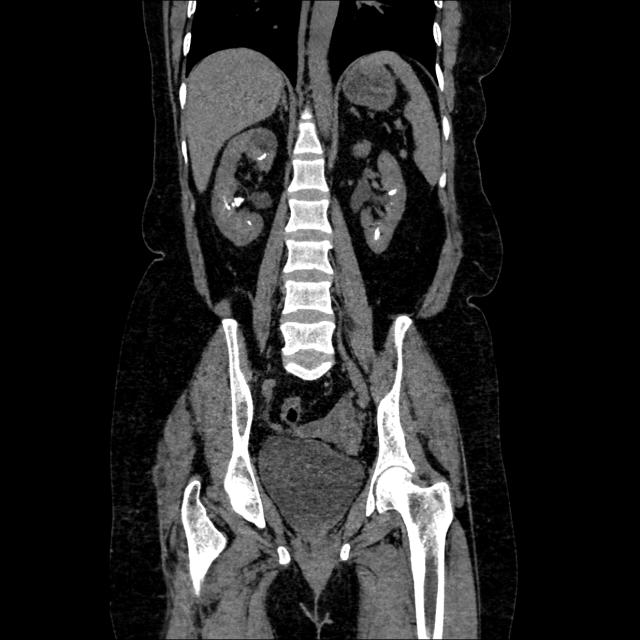kidney: (208, 120, 284, 252), (348, 141, 411, 257)
stone: (227, 188, 250, 210), (371, 220, 384, 250), (385, 184, 401, 202), (254, 146, 267, 165)
